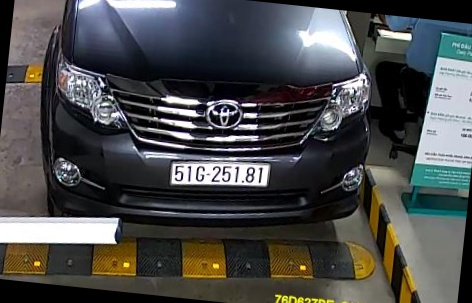plate: (163, 153, 274, 204)
